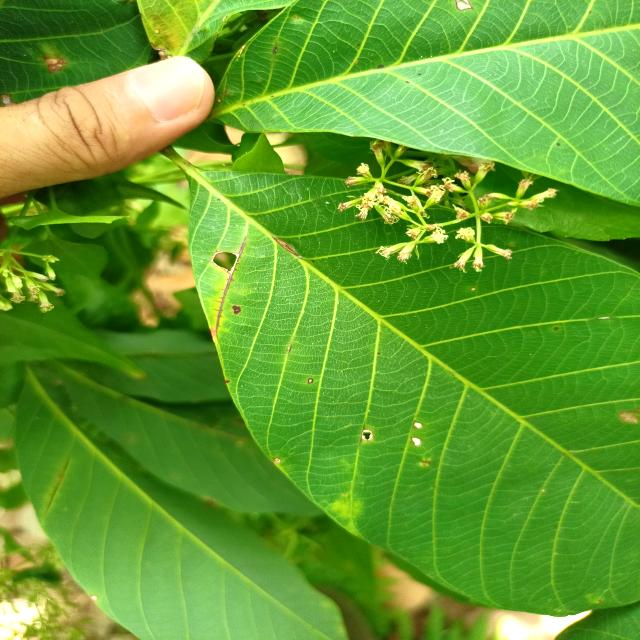Colletotrichum: (308, 378, 314, 383), (553, 327, 558, 331), (227, 238, 229, 240)
Corynespora: (210, 235, 249, 340)
Leaf-Blight: (43, 57, 67, 73), (0, 94, 17, 106)
